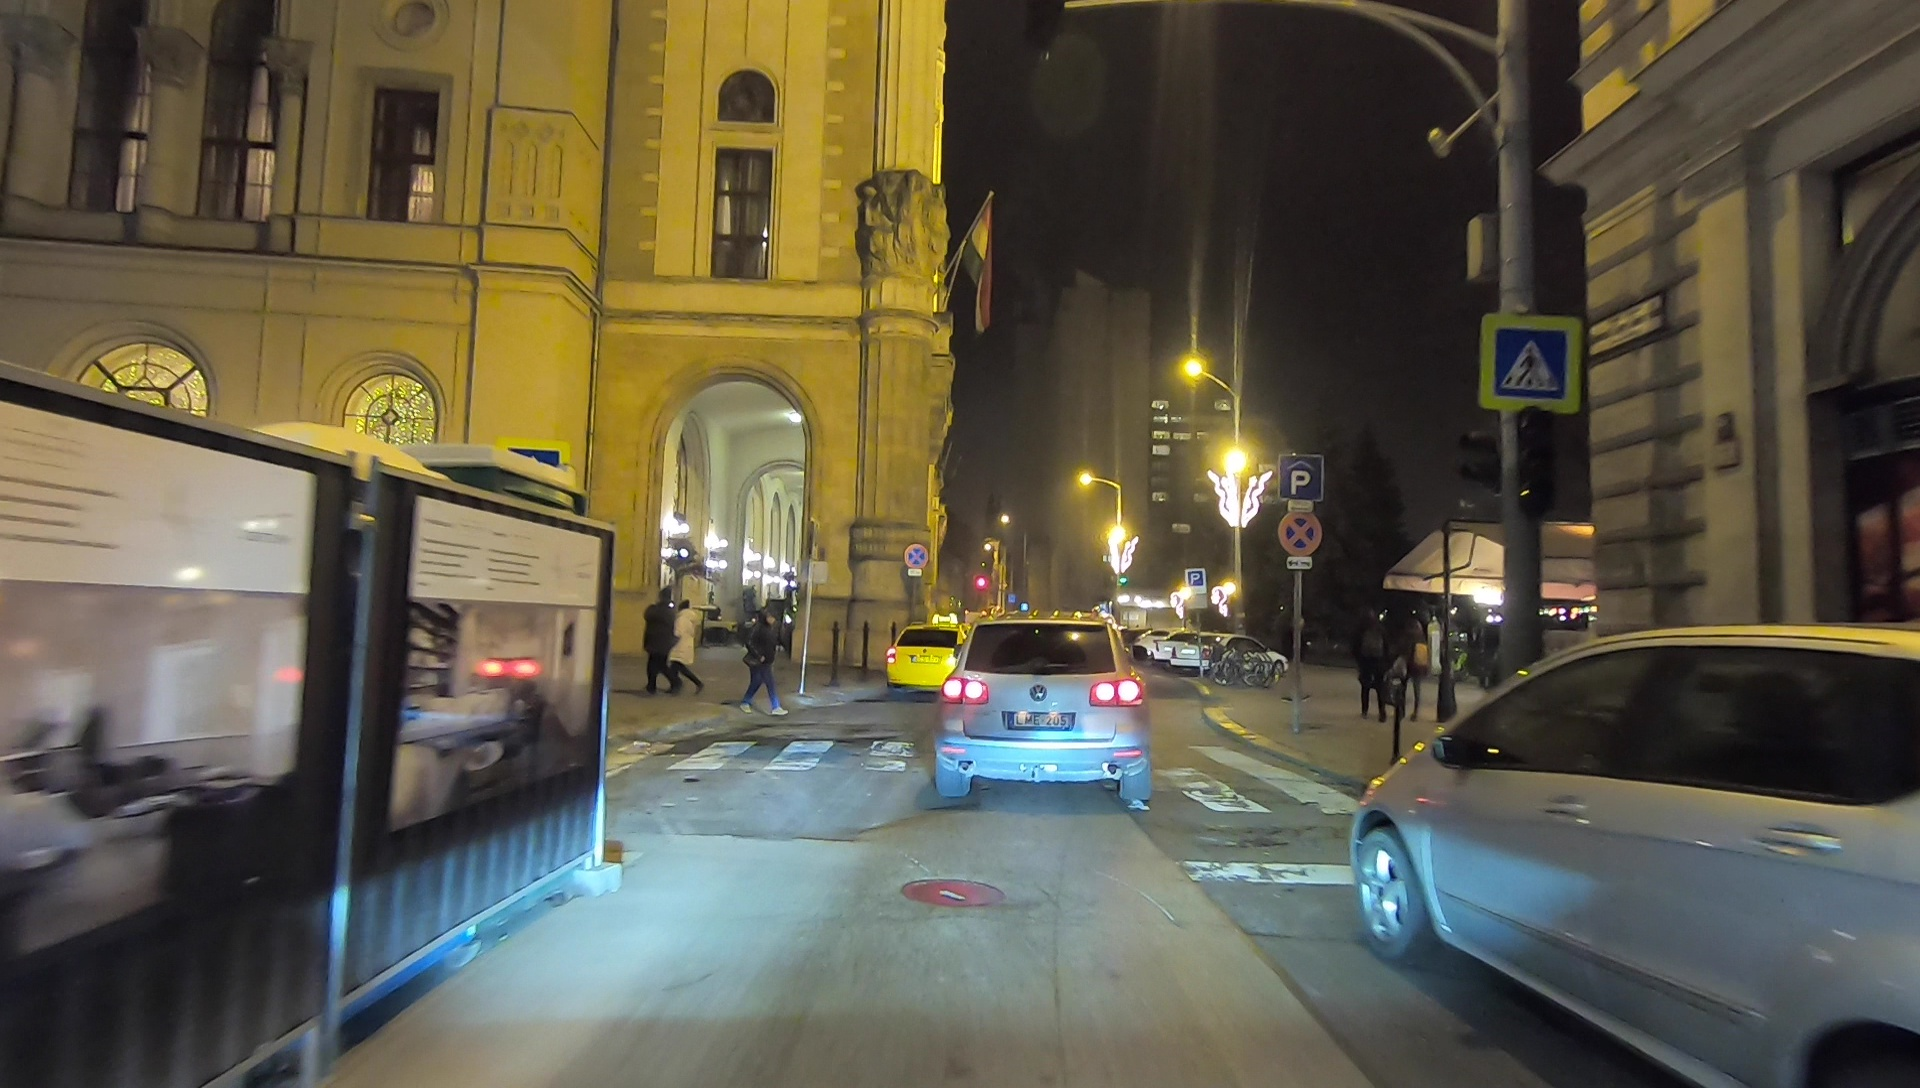person: (742, 610, 787, 716), (1354, 604, 1387, 720), (666, 597, 704, 694), (643, 587, 674, 694), (1397, 609, 1422, 725)
